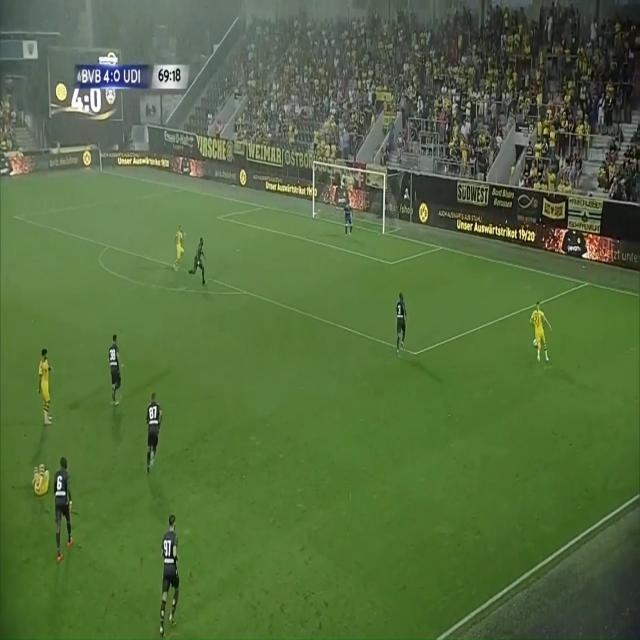ball: (531, 338, 539, 349)
goalkeeper: (339, 191, 359, 241)
player: (151, 509, 195, 640), (98, 331, 130, 421), (53, 449, 77, 562), (33, 338, 57, 434), (143, 383, 162, 480), (187, 236, 215, 293), (530, 301, 553, 369), (394, 289, 410, 360), (28, 456, 51, 499), (173, 220, 189, 275)
